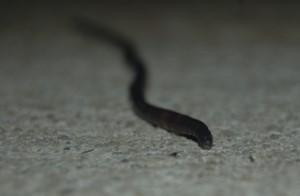earthworms: (45, 9, 236, 154)
